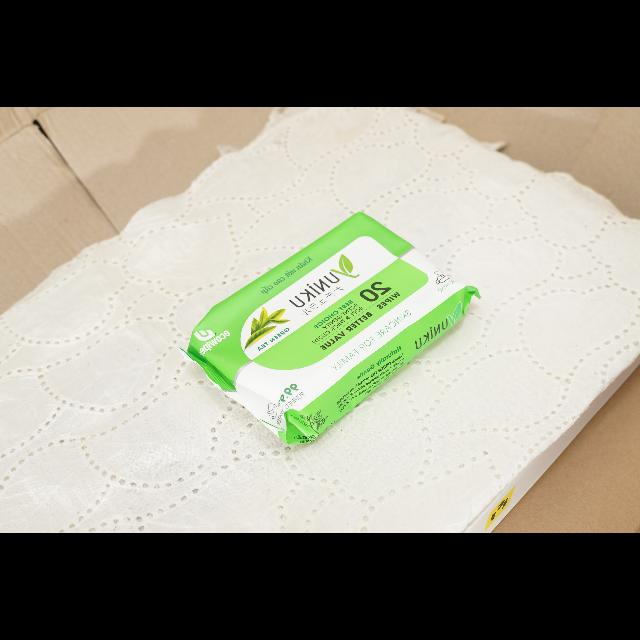khan_giay: (182, 212, 480, 445)
